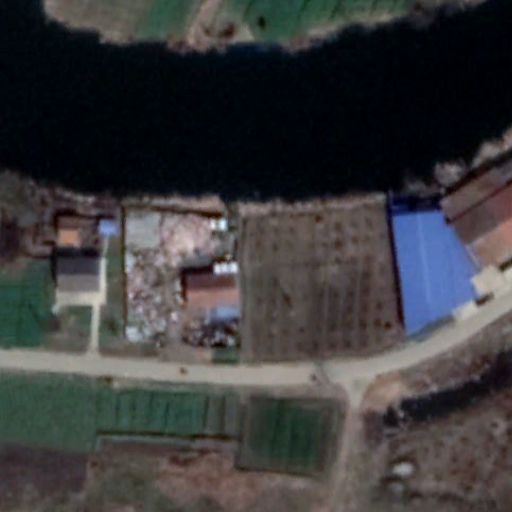msw: (128, 208, 214, 347)
